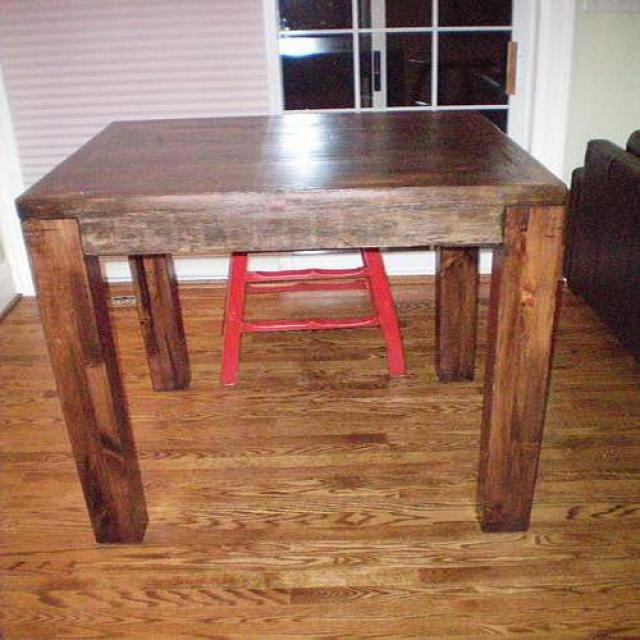table: (14, 109, 570, 545)
